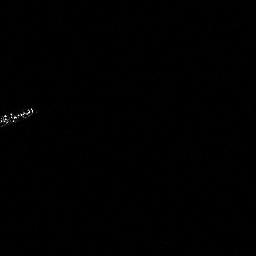ship: (1, 106, 36, 129)
